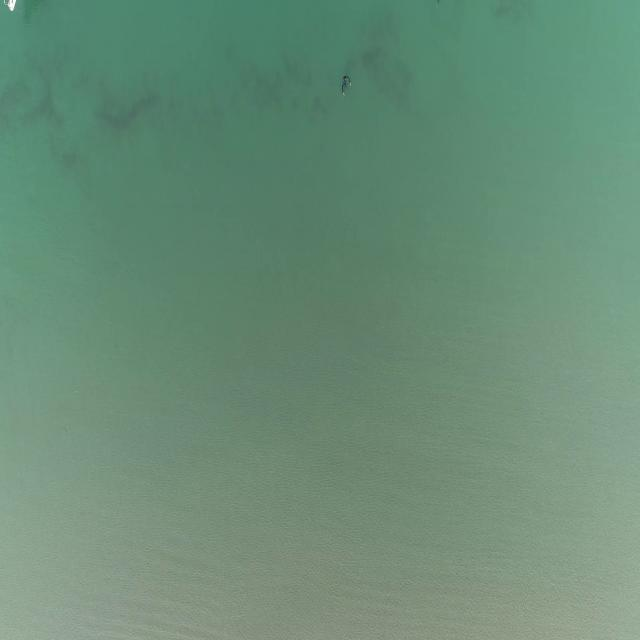person: (340, 75, 354, 96)
